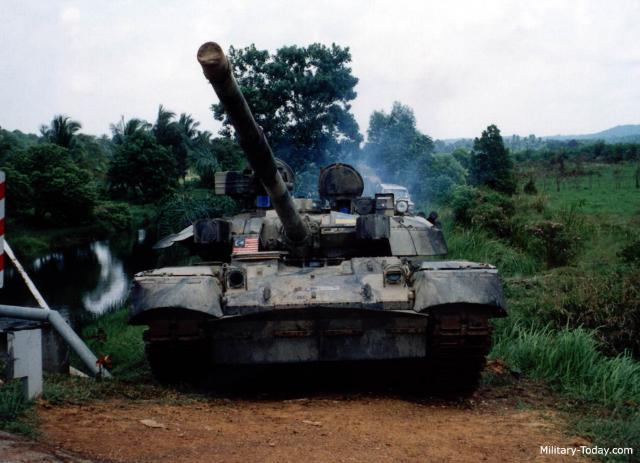tank: (158, 173, 490, 388)
